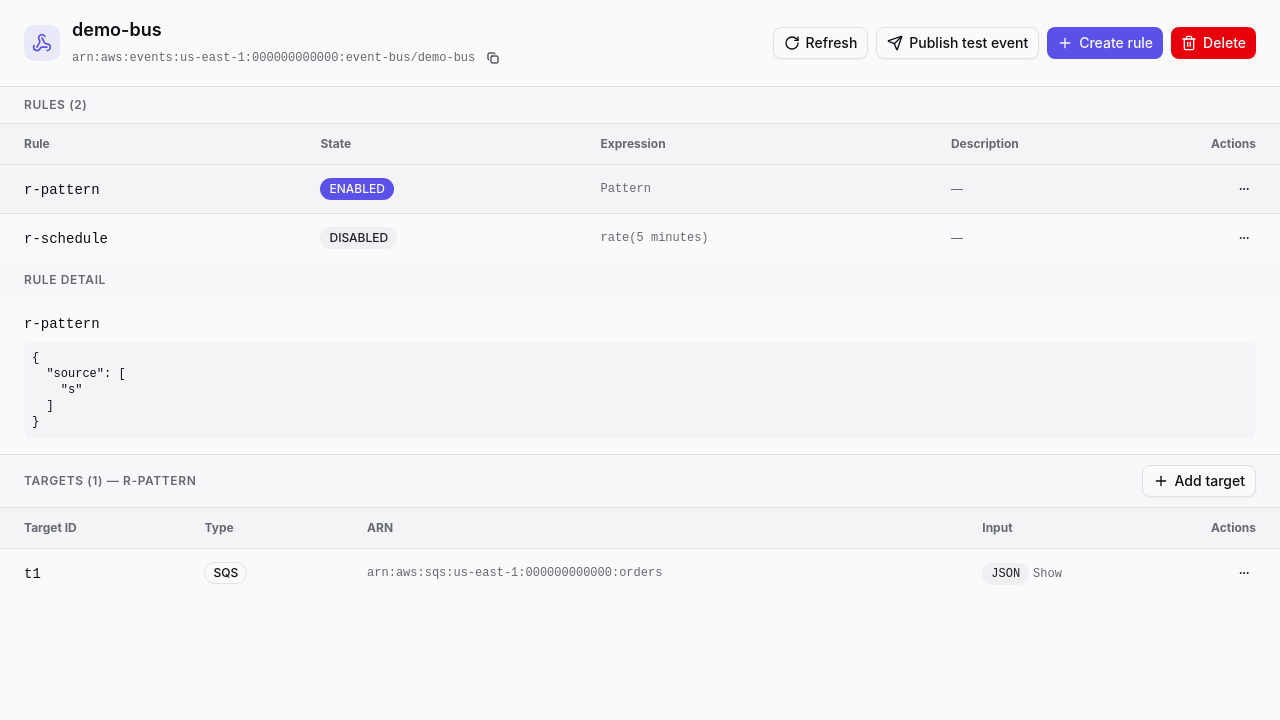
Test: EventBusView › switches the rule detail section on row click
Click the text "r-schedule": (66,238) x1=24 y1=230 x2=108 y2=246
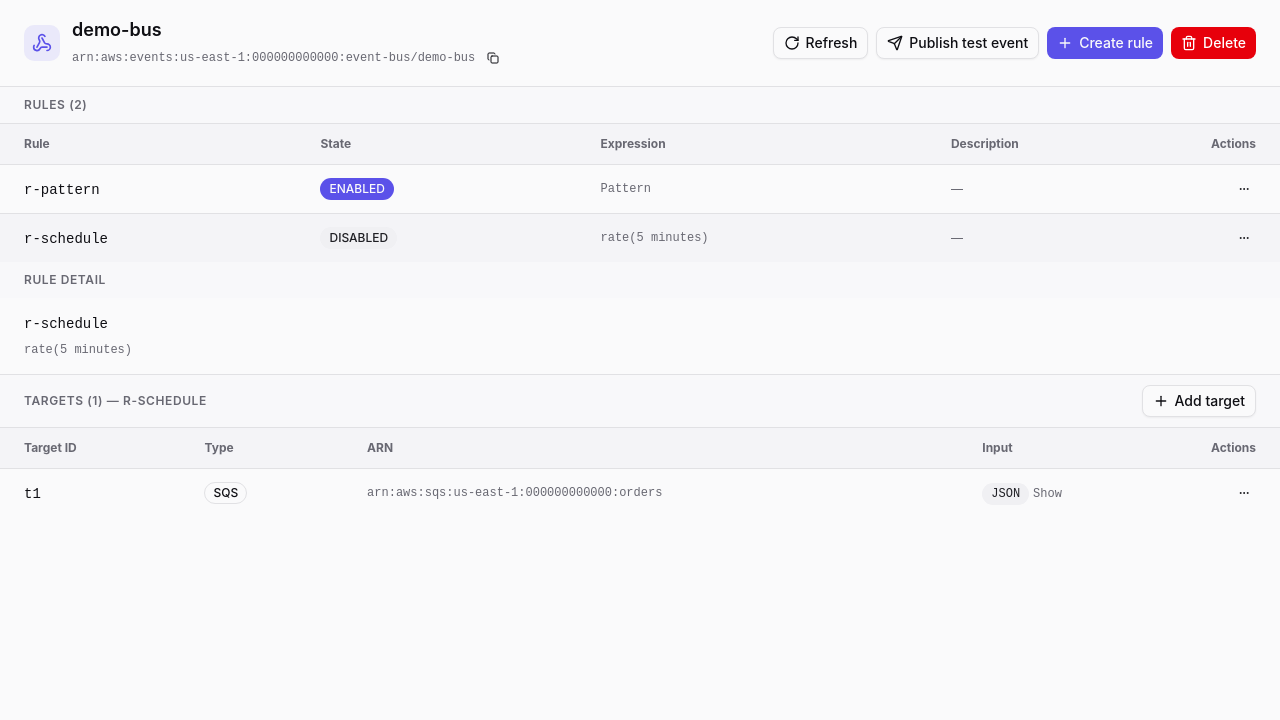
Check: the text "rate(5 minutes)" below "Rule detail" is shown, box x1=24 y1=343 x2=132 y2=357
